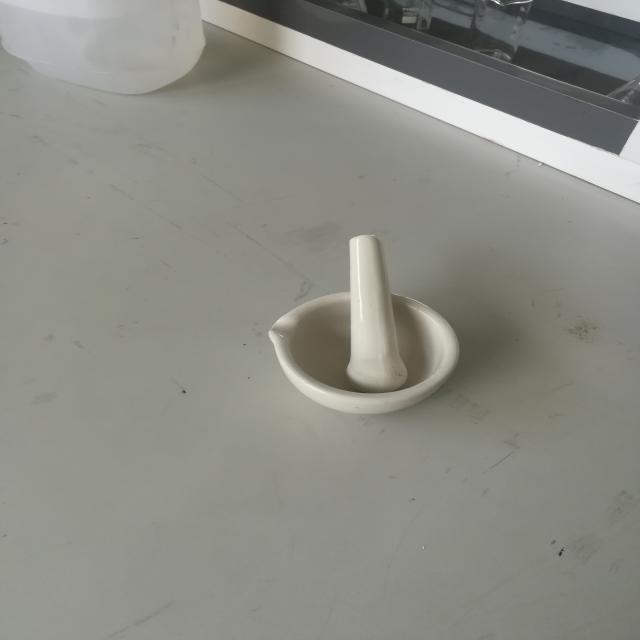Porcelain_Mortar Pestle: (232, 212, 498, 438)
